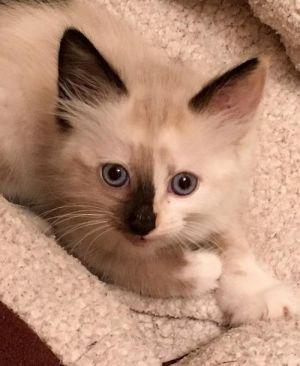siamese: (47, 23, 271, 264)
